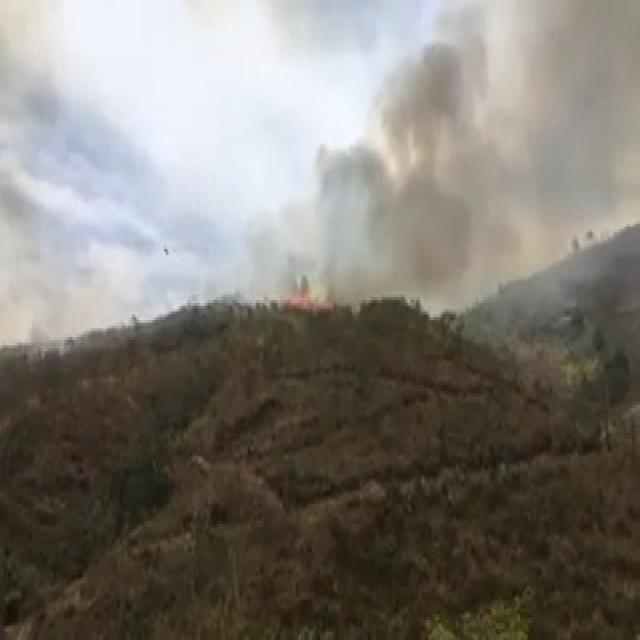Fire: (284, 286, 322, 314)
Smoke: (240, 14, 635, 317), (0, 255, 146, 353)
